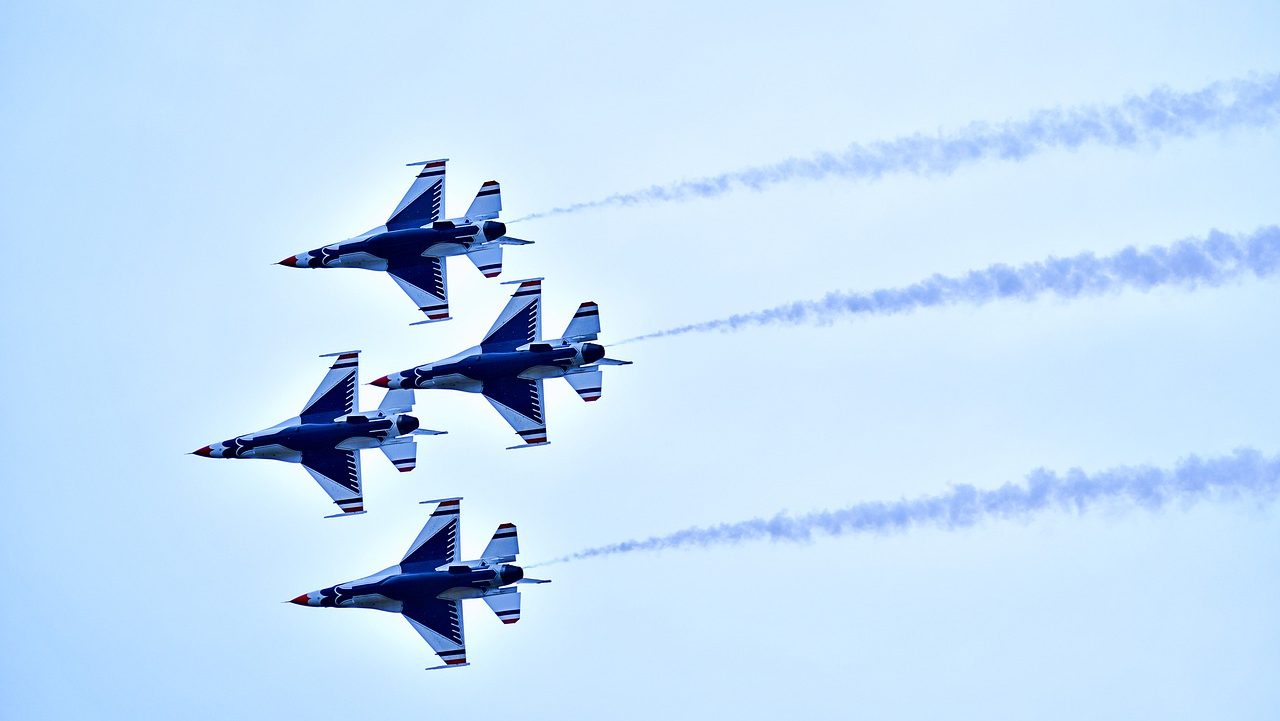plane: (279, 505, 527, 666), (274, 160, 500, 322), (181, 347, 375, 520), (418, 294, 616, 445)
